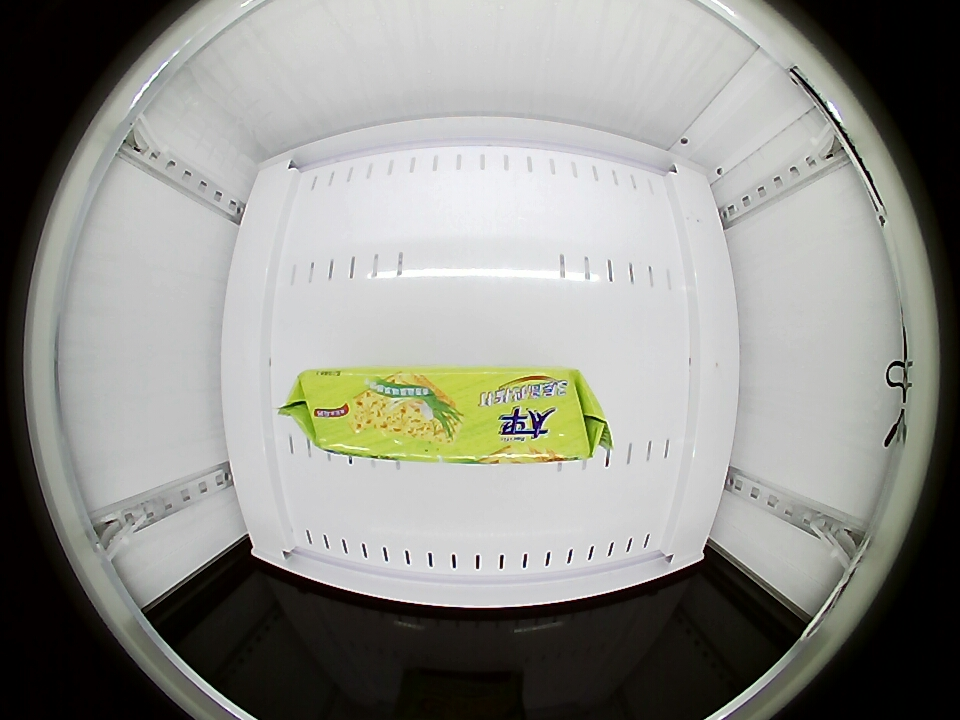taipingshuda: (301, 366, 595, 465)
